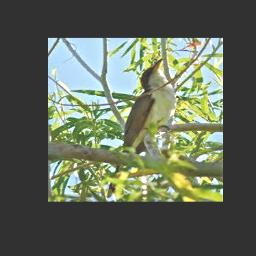Cuckoo: (106, 59, 176, 198)
